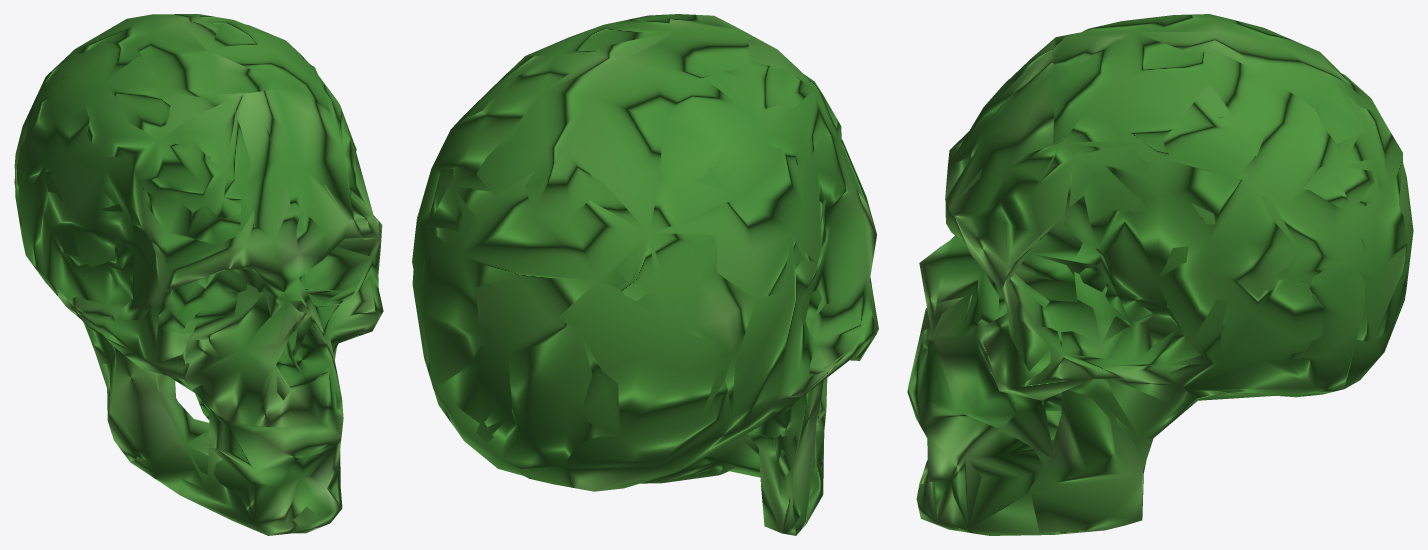
File: gen3d-jade-skull-lod0.glb
3 views of the same model, side by side, from view 1: azimuth 30°, elevation 25°; view 2: azimuth 150°, elevation 25°; view 3: azimuth 270°, elevation 25° (orthographic). The views are drawn at different scales.
Visible parts, largest first — view 1: part_0; view 2: part_0; view 3: part_0.
Boxes of the visible parts, x1,y1,x2,y2 form: part_0: [14, 14, 383, 535]; part_0: [412, 14, 878, 535]; part_0: [907, 14, 1413, 535].
Size of the model in its own units: 0.6865 by 0.9947 by 0.9478.
